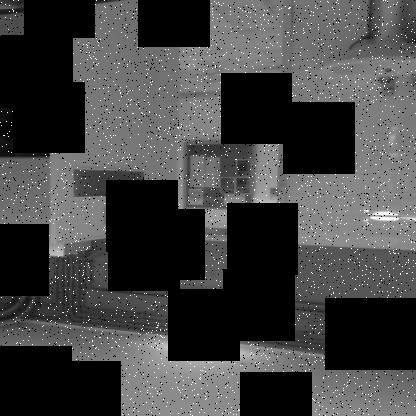Porte: (47, 1, 292, 245)
